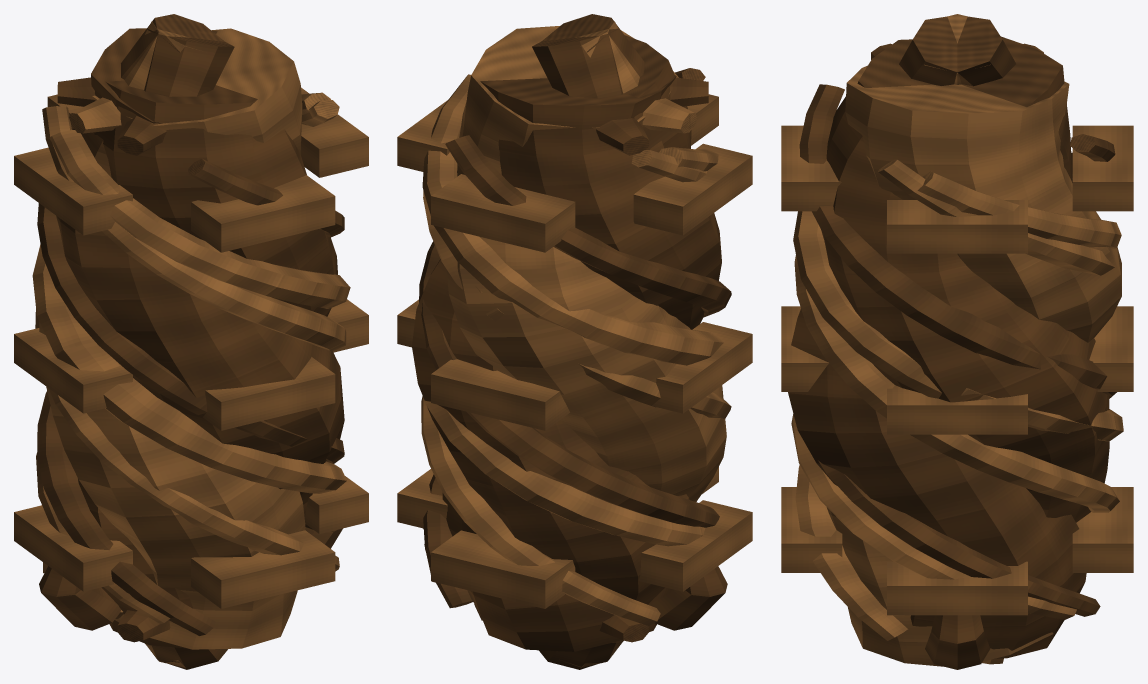
The model's file is rootforged-worldroot-pillar-2m.glb.
3 renders of one model, left to right at view 1: azimuth 30°, elevation 25°; view 2: azimuth 150°, elevation 25°; view 3: azimuth 270°, elevation 25°, orthographic.
Visible parts, largest first — view 1: braided-root-1, braided-root-0, braided-root-2, surface-root-vein-0, surface-root-vein-1, bark-ridge-2, bark-ridge-3, bark-ridge-0, bark-ridge-1, pillar-key-y-2--1, pillar-key-y-0--1, grown-foot-1-0 (+11 smaller); view 2: braided-root-1, braided-root-0, braided-root-2, surface-root-vein-0, bark-ridge-2, bark-ridge-0, surface-root-vein-1, bark-ridge-3, pillar-key-y-2-1, pillar-key-y-0-1, pillar-key-y-1-1, pillar-key-x-2--1 (+12 smaller); view 3: braided-root-1, braided-root-2, braided-root-0, bark-ridge-2, surface-root-vein-0, bark-ridge-3, surface-root-vein-1, bark-ridge-1, bark-ridge-0, pillar-key-x-2-1, pillar-key-x-0-1, pillar-key-x-1-1 (+9 smaller).
Part boxes in pixels (x1,y1,x2,y2): braided-root-1: (39, 28, 305, 649); braided-root-0: (56, 28, 344, 620); braided-root-2: (78, 80, 337, 648); surface-root-vein-0: (32, 92, 346, 493); surface-root-vein-1: (36, 130, 350, 623); bark-ridge-2: (37, 159, 344, 635); bark-ridge-3: (42, 106, 346, 573); bark-ridge-0: (37, 203, 344, 463); bark-ridge-1: (35, 100, 339, 571); pillar-key-y-2--1: (191, 174, 335, 252); pillar-key-y-0--1: (191, 530, 335, 608); grown-foot-1-0: (117, 29, 234, 155); braided-root-1: (446, 26, 726, 620); braided-root-0: (442, 75, 721, 651); braided-root-2: (412, 35, 691, 642); surface-root-vein-0: (422, 74, 723, 582); bark-ridge-2: (419, 68, 719, 527); bark-ridge-0: (423, 135, 731, 608); surface-root-vein-1: (424, 147, 718, 546); bark-ridge-3: (421, 150, 707, 625); pillar-key-y-2-1: (431, 174, 575, 252); pillar-key-y-0-1: (431, 530, 575, 608); pillar-key-y-1-1: (431, 359, 569, 430); pillar-key-x-2--1: (633, 143, 752, 235); braided-root-1: (826, 65, 1121, 666); braided-root-2: (821, 39, 1109, 522); braided-root-0: (788, 36, 1086, 658); bark-ridge-2: (799, 84, 1116, 398); surface-root-vein-0: (791, 171, 1121, 619); bark-ridge-3: (794, 255, 1119, 512); surface-root-vein-1: (793, 211, 1123, 441); bark-ridge-1: (795, 159, 1114, 640); bark-ridge-0: (818, 134, 1115, 616); pillar-key-x-2-1: (887, 200, 1027, 253); pillar-key-x-0-1: (887, 561, 1027, 615); pillar-key-x-1-1: (887, 385, 1027, 434).
Size of the model in its own units: 1 by 2 by 1.
Materials: 2 (2 with a texture image).
